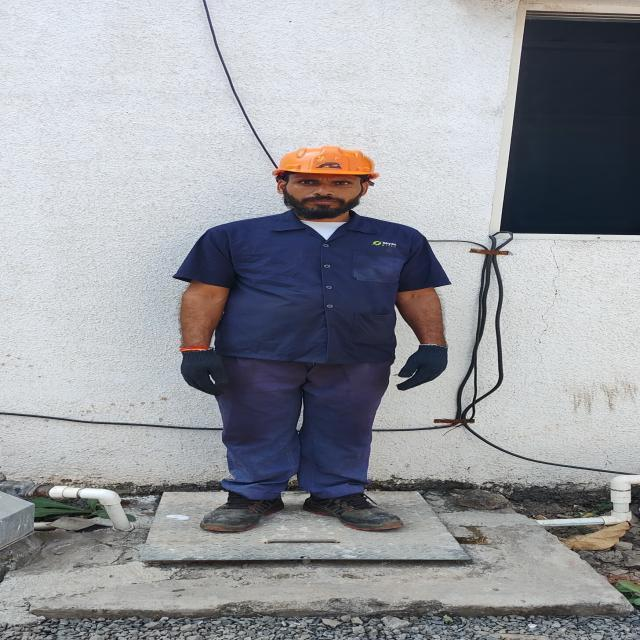gloved_hand: (143, 340, 256, 396), (360, 345, 477, 393)
